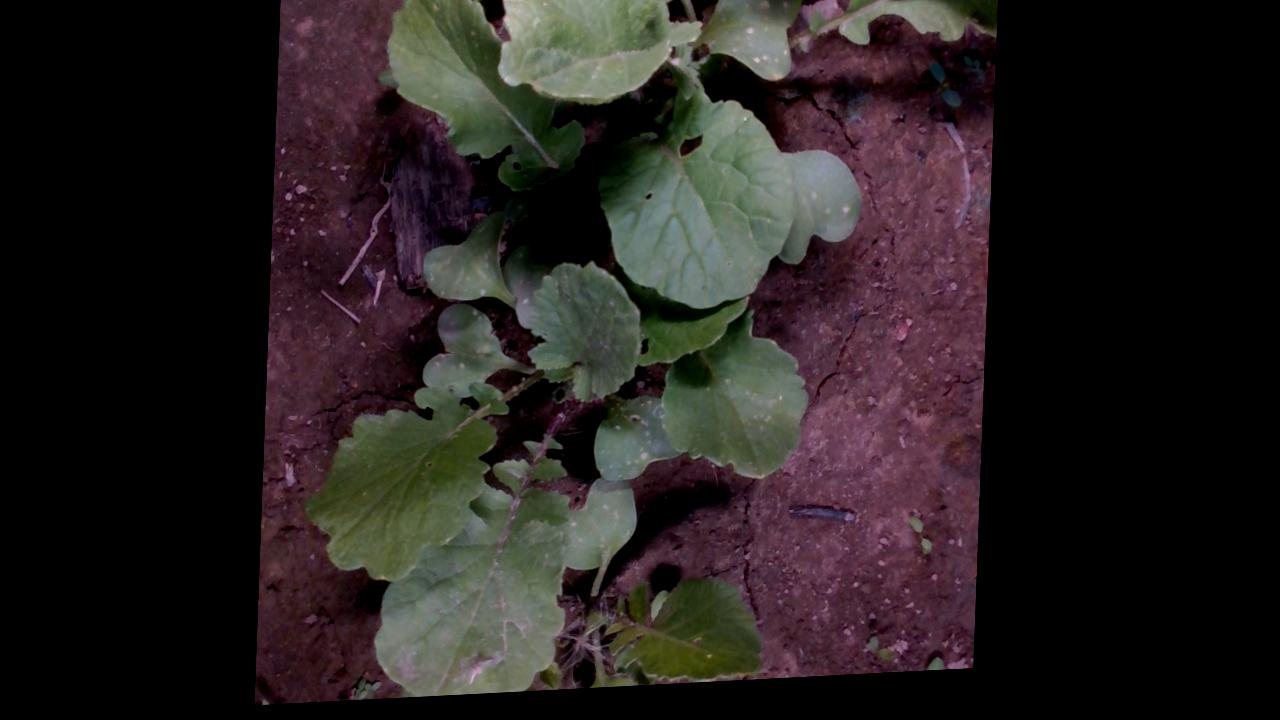weed: (914, 662, 954, 681)
